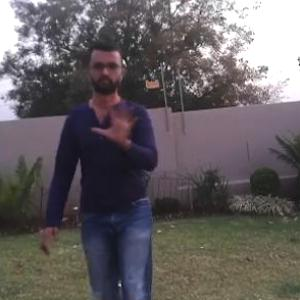follow_hand: (90, 98, 143, 144)
